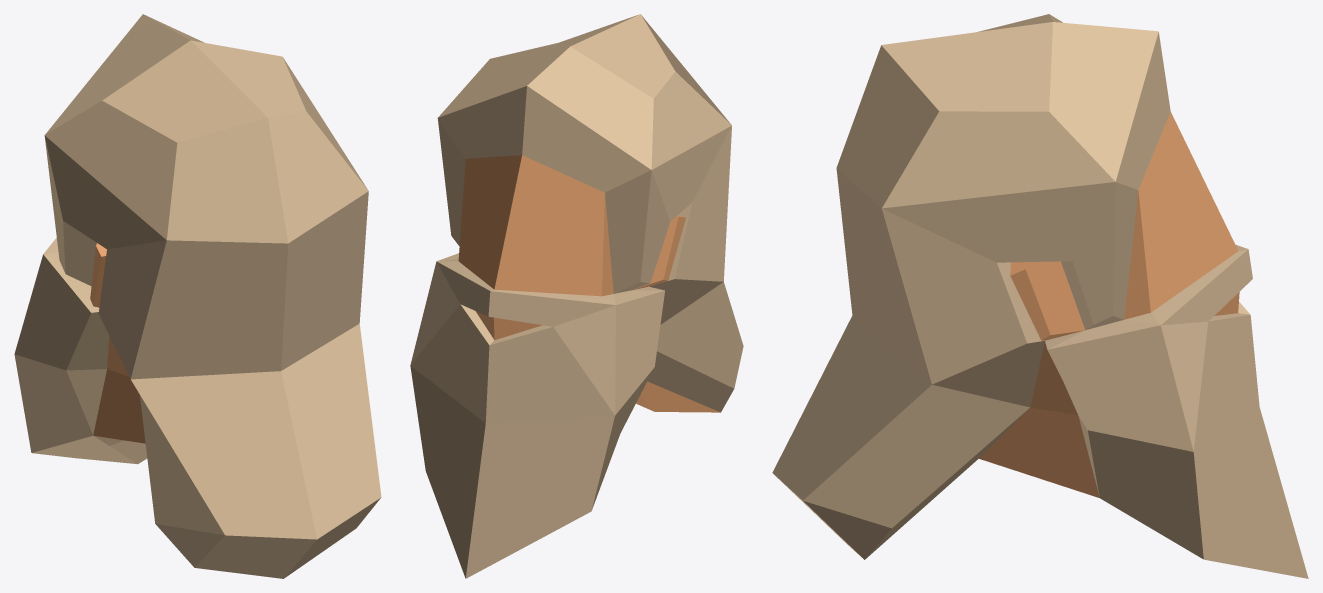
The model's file is head_manCastaway.fbx.
3 views of the same model, side by side, from view 1: azimuth 30°, elevation 25°; view 2: azimuth 150°, elevation 25°; view 3: azimuth 270°, elevation 25° (orthographic). The views are drawn at different scales.
Parts seen in each view (by area): view 1: man-casteway; view 2: man-casteway; view 3: man-casteway.
Boxes of the visible parts, bbox=[...] form: man-casteway: bbox=[14, 14, 381, 578]; man-casteway: bbox=[410, 14, 743, 578]; man-casteway: bbox=[772, 14, 1308, 578].
Bounding box in the file's own units: 20.73 × 36.53 × 41.87.
